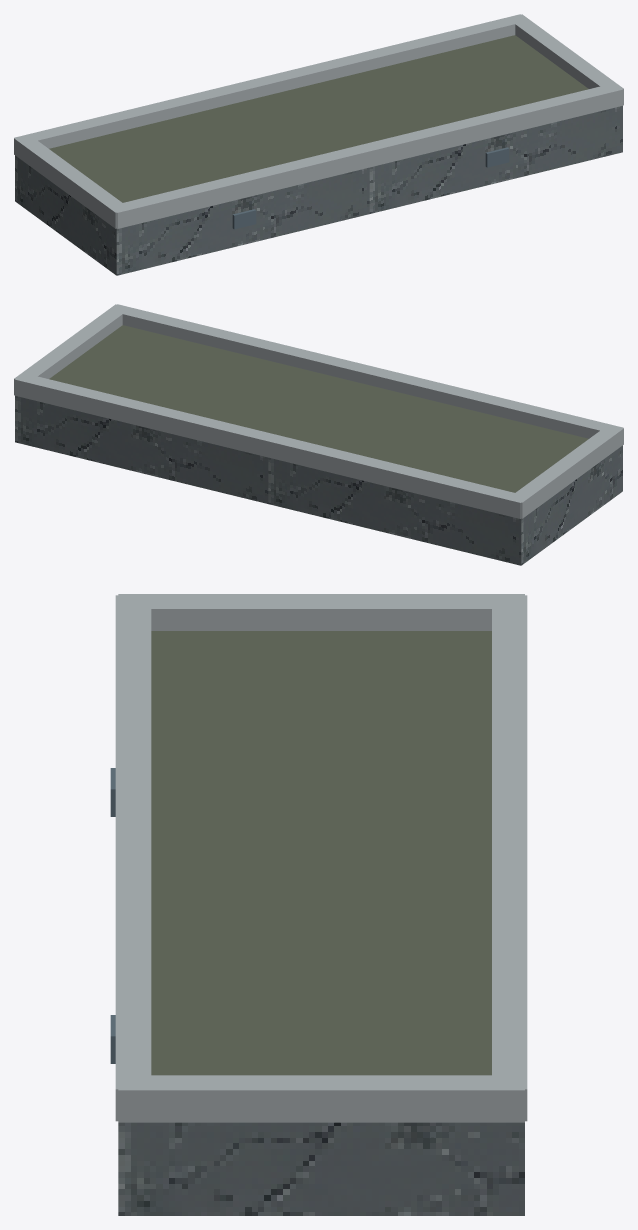
File: planter_information.glb
3 views of the same model, one above another, from view 1: azimuth 30°, elevation 25°; view 2: azimuth 150°, elevation 25°; view 3: azimuth 270°, elevation 25° (orthographic). The views are drawn at different scales.
Visible parts, largest first — view 1: planter_information; view 2: planter_information; view 3: planter_information.
Boxes of the visible parts, <box> form: planter_information: <box>14,14,623,275</box>; planter_information: <box>14,304,623,565</box>; planter_information: <box>110,594,527,1215</box>.
Bounding box in the file's own units: 4.62 × 0.55 × 1.64.
4 materials, 1 textured.
